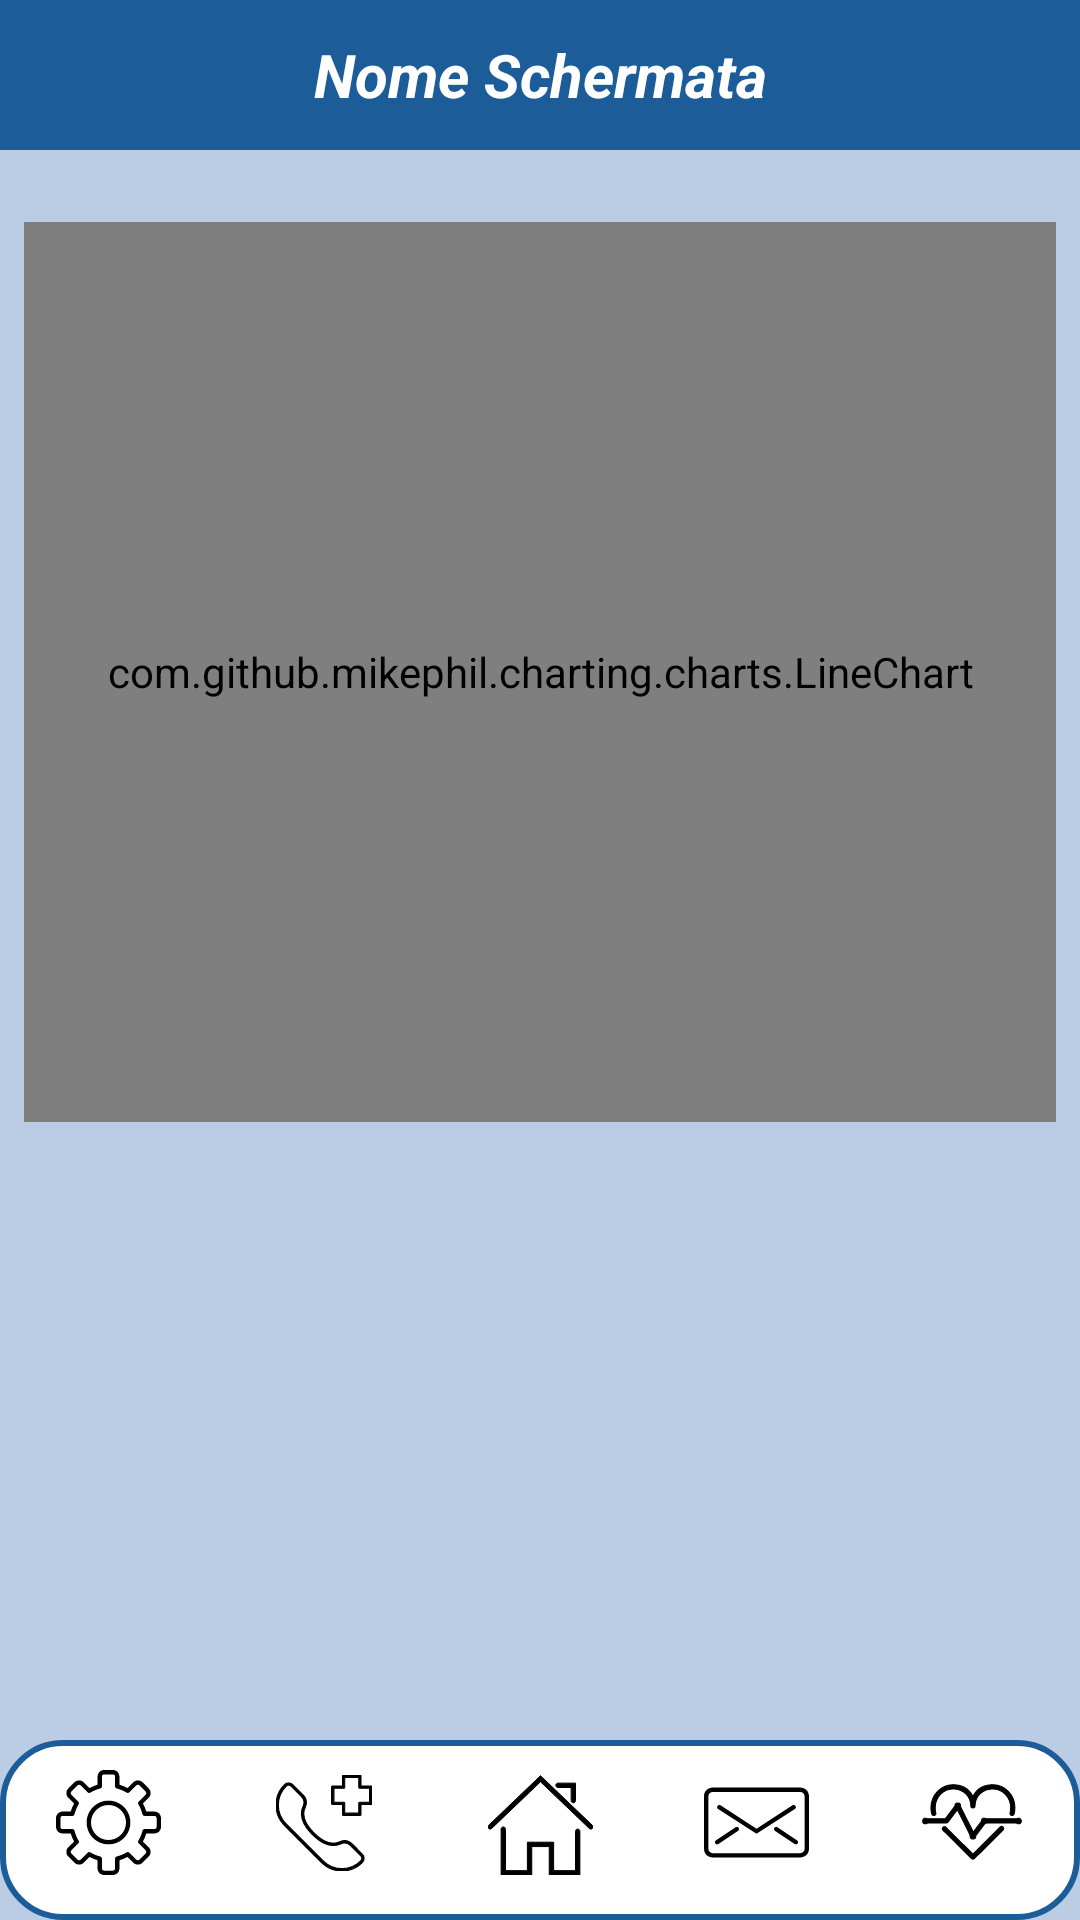

Where to tap for icons on this 1080px x 1920px app screen, as (x=x, y=y):
home: (x=540, y=1825)
message: (x=756, y=1822)
misurazioni: (x=972, y=1822)
setting: (x=108, y=1822)
sos: (x=324, y=1823)
